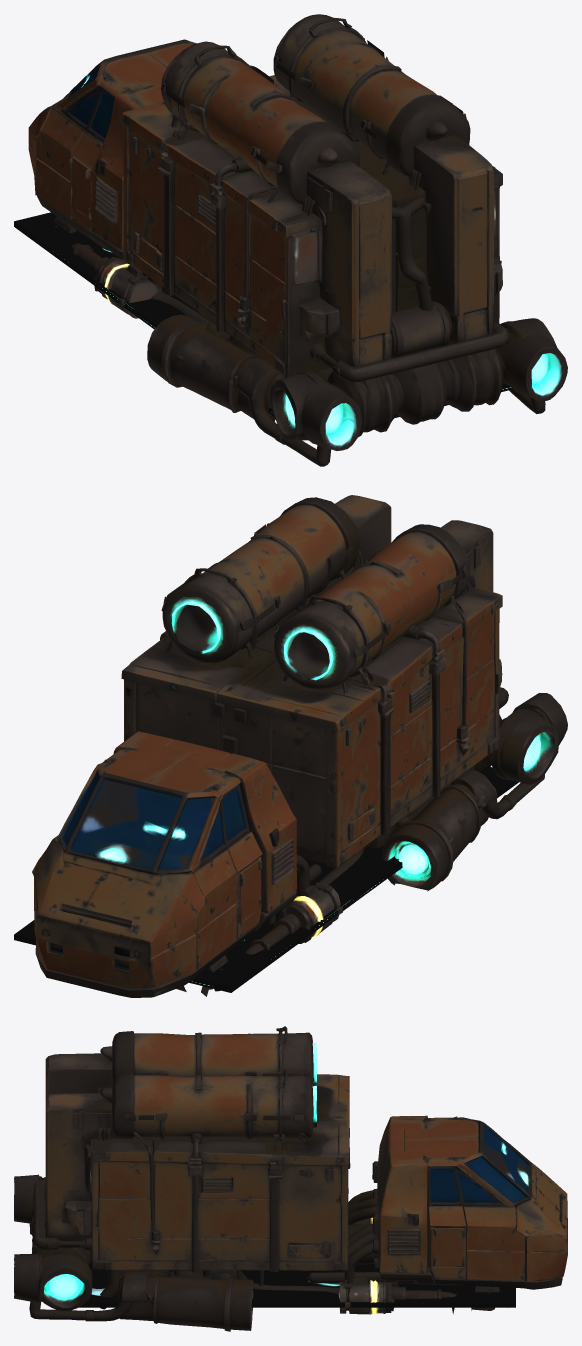
File: hauler_rust.glb
3 renders of one model, top to bottom at view 1: azimuth 30°, elevation 25°; view 2: azimuth 150°, elevation 25°; view 3: azimuth 270°, elevation 25°, orthographic. The views are drawn at different scales.
Visible parts, largest first — view 1: model, Underplate; view 2: model, Underplate; view 3: model, Underplate.
Part boxes in pixels (box(x1,y1,x2,y2)): model: box(28, 14, 567, 466); Underplate: box(14, 212, 512, 418); model: box(32, 495, 567, 997); Underplate: box(14, 766, 518, 992); model: box(14, 1026, 567, 1331); Underplate: box(79, 1260, 515, 1307).
Size of the model in its own units: 3.35 by 3.23 by 7.07.
Materials: 2 (2 with a texture image).
